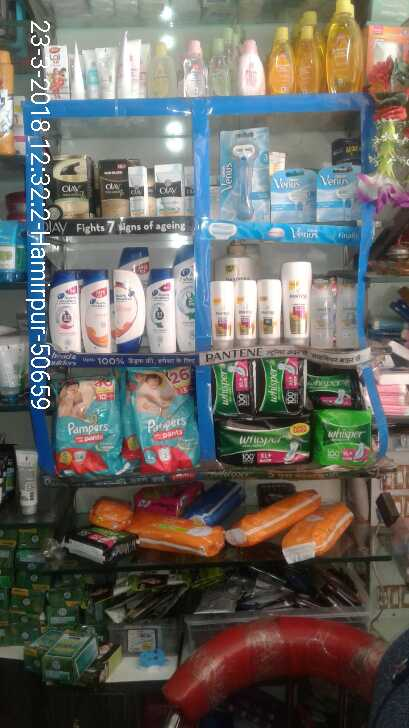venus: (221, 128, 270, 222), (317, 166, 360, 222), (274, 174, 317, 222)
